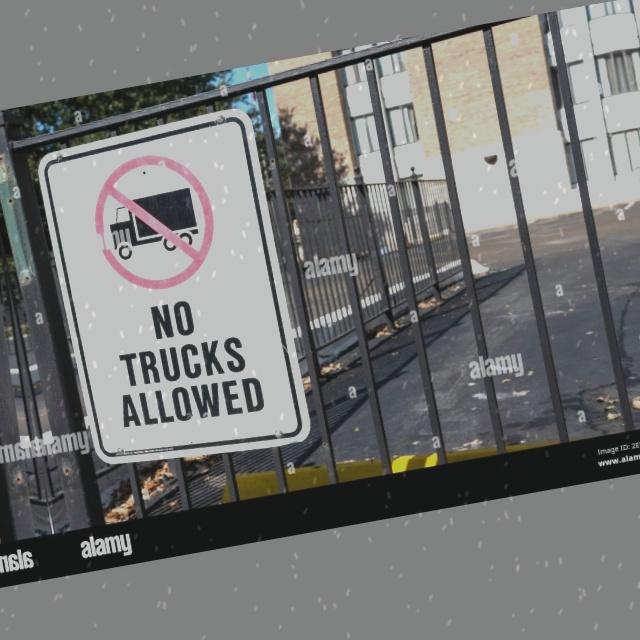Truck_Prohibited: (76, 133, 232, 308)
